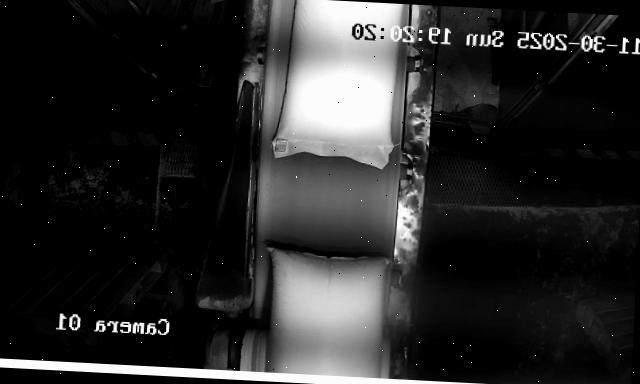bag: (269, 0, 400, 169), (258, 248, 390, 378)
